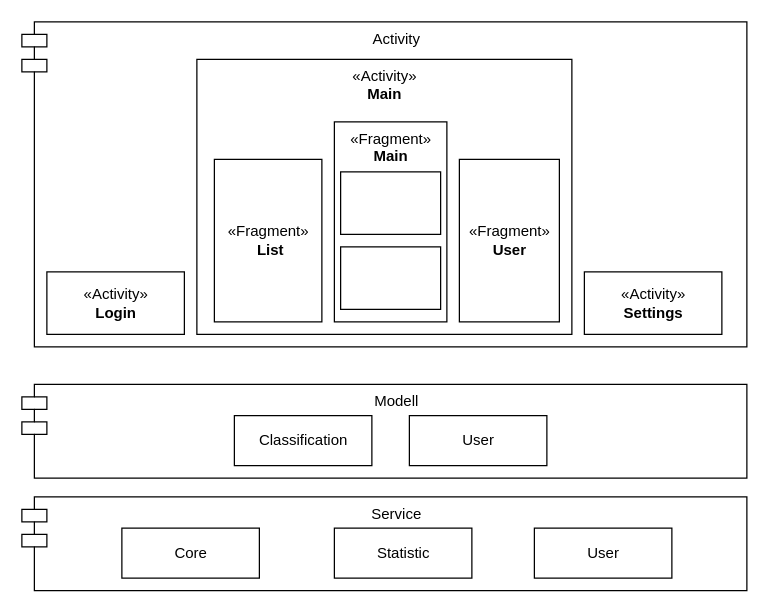
Some shapes in this 769 by 613 pixel diagram are drawn without their labels. The shapes that lost their labels are listed below. From the top down, each one's centre as x and y in pixels, then its label:
the point at 390,202: Camera
the point at 390,277: Classify
